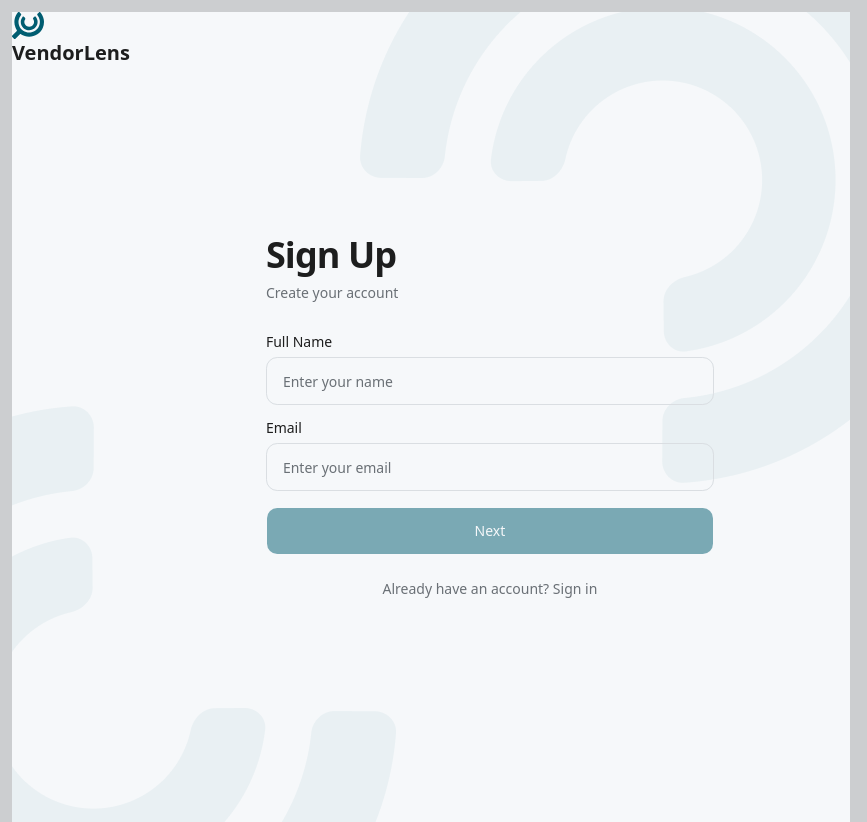
Test case: RegisterPage › Step 1 - password & terms › shows error for password less than 8 characters
The image size is (867, 822).
Type "John Doe" into the field with placeholder "Enter your name". click: (490, 381)
box: [266,357,714,405]
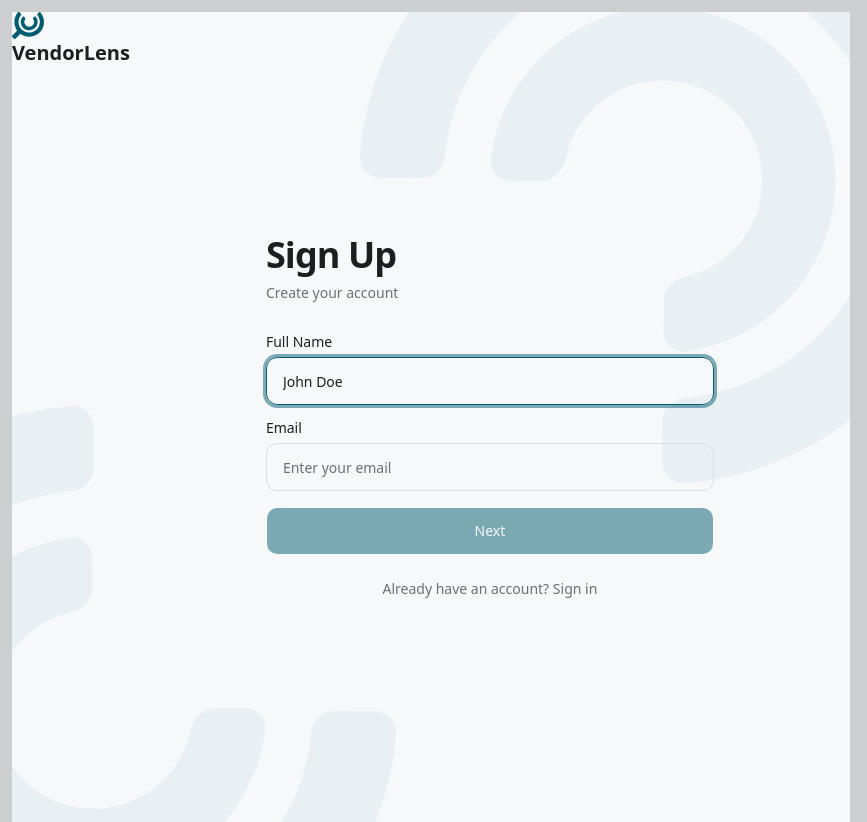
Type "john@example.com" into the field with placeholder "Enter your email". click: (490, 467)
box: [266,443,714,491]
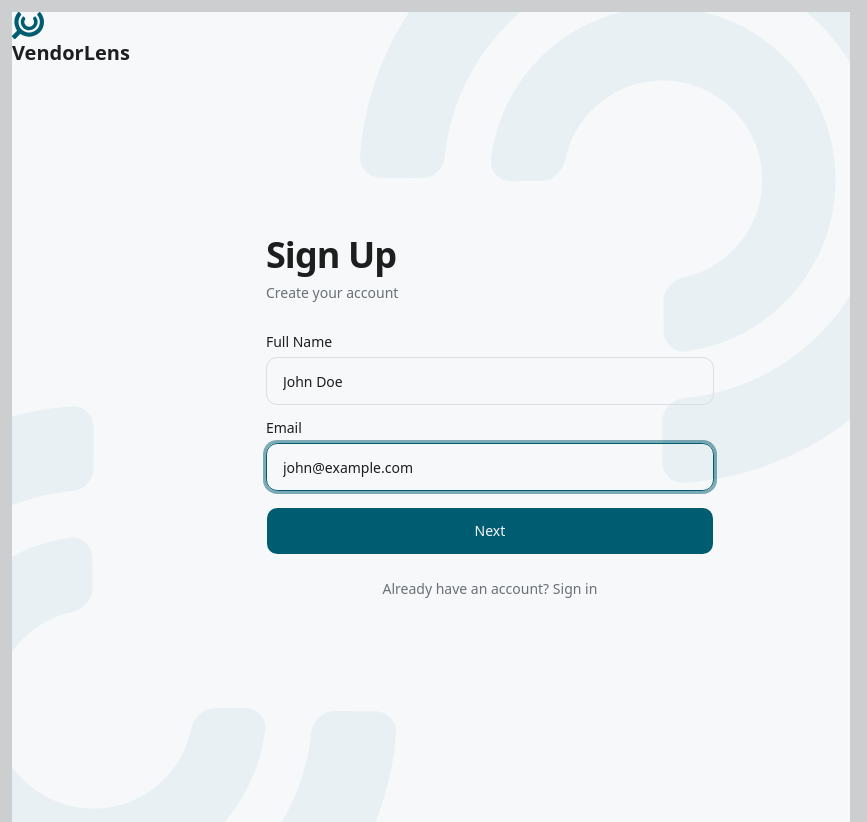
Click the button "Next". click: click(490, 531)
box: [266,507,714,555]
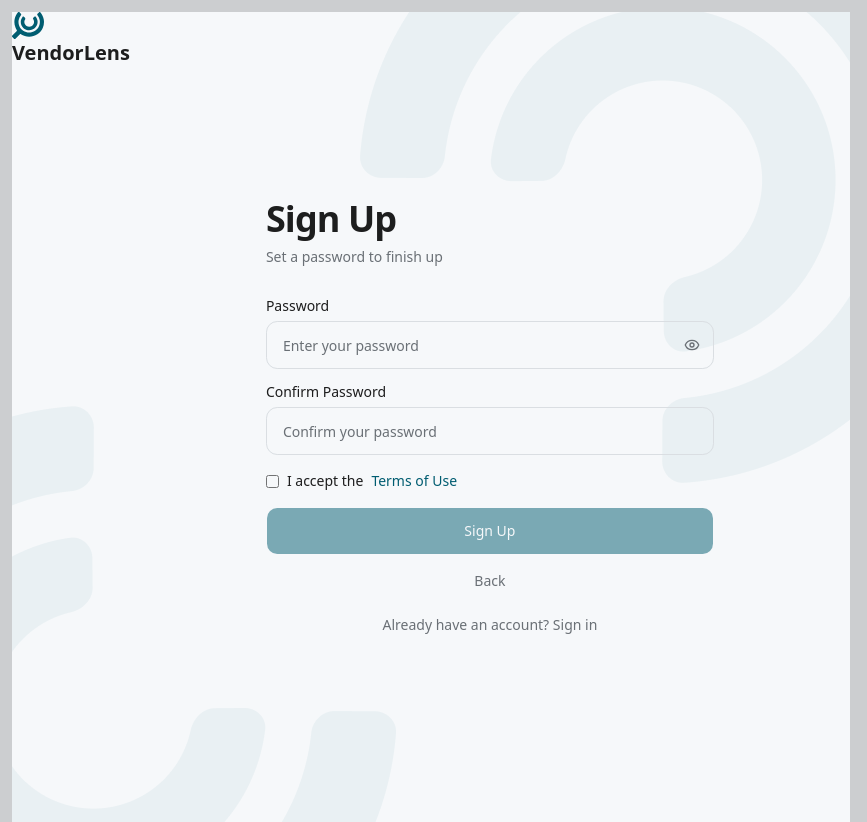
Expected: the password field with placeholder "Enter your password" is shown
Type "Ab@1" into the password field with placeholder "Enter your password". click: (490, 345)
box: [266,321,714,369]
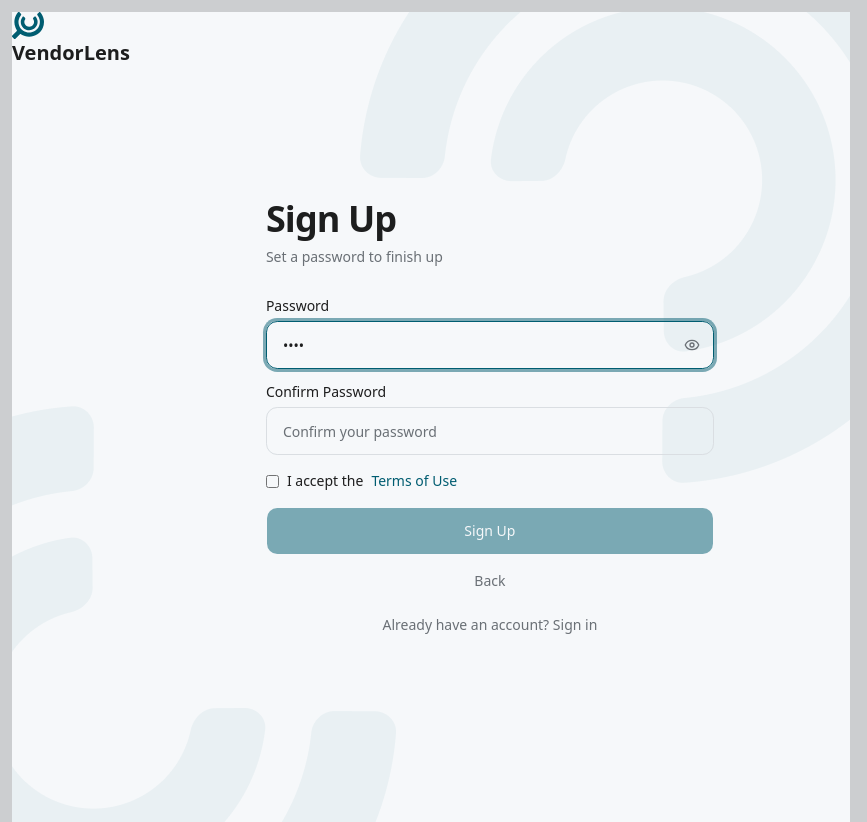
Press Tab
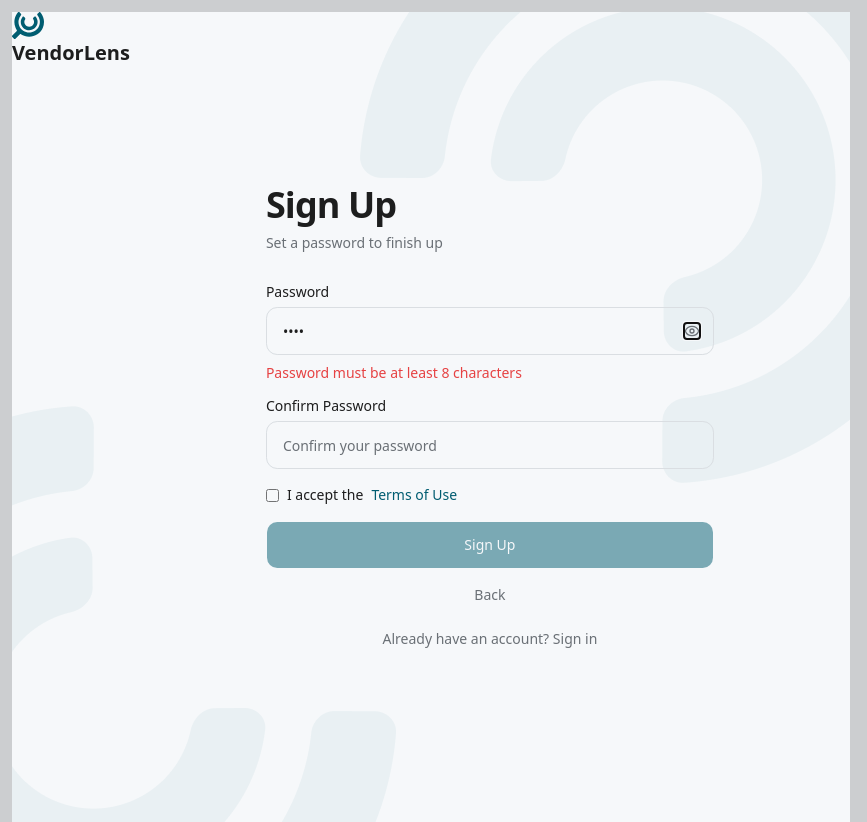
Expected: the text "Password must be at least 8 characters" is shown, [266,363,522,382]
